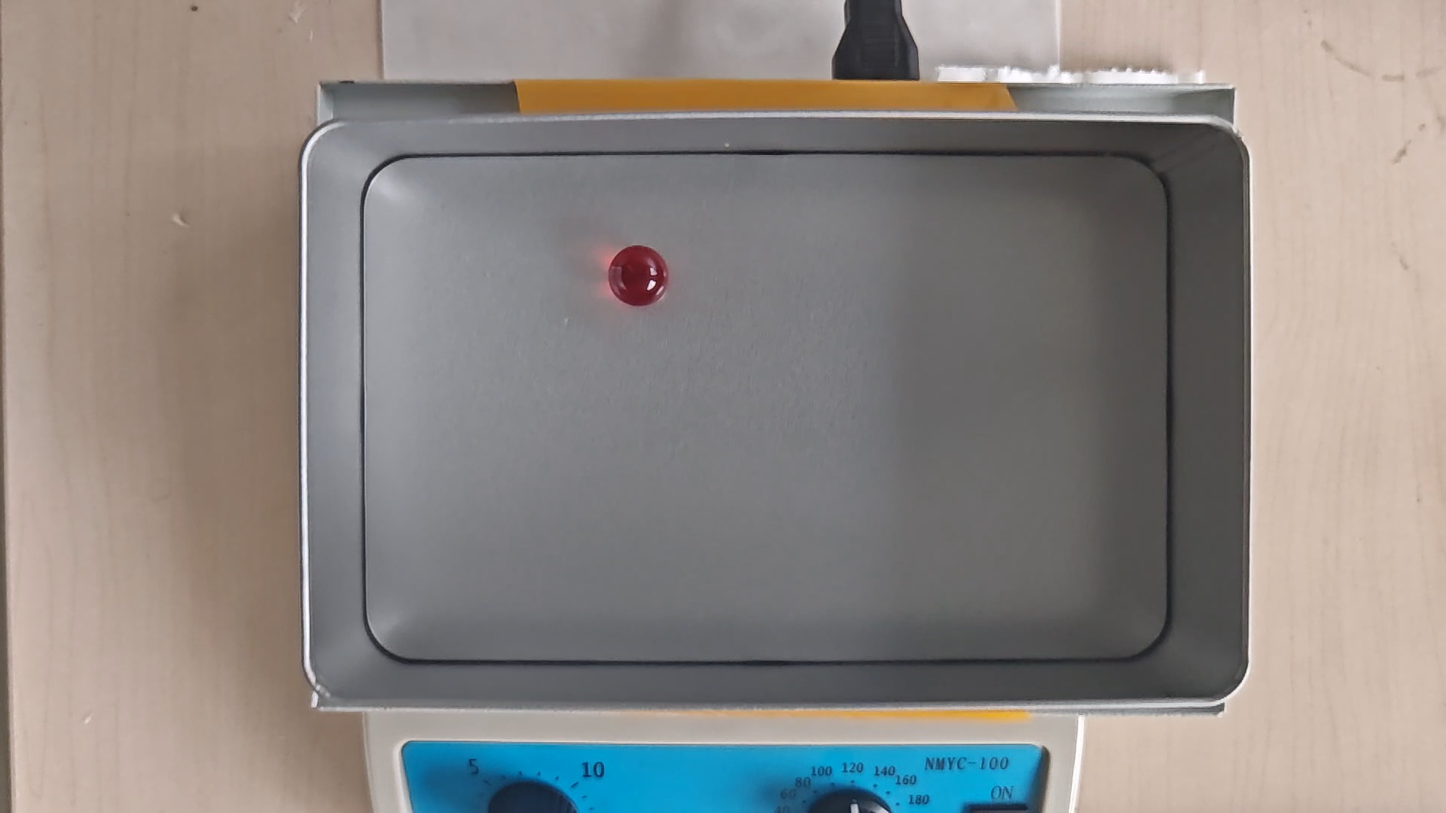ball: (607, 245, 670, 306)
container: (361, 156, 1168, 662)
